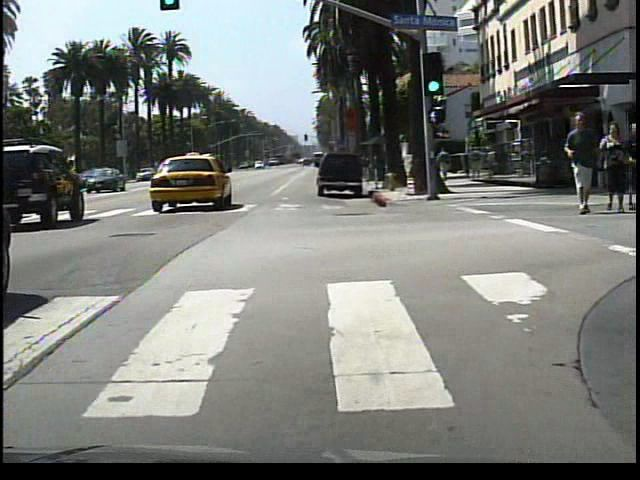person: (557, 104, 599, 223), (596, 124, 626, 221), (433, 145, 454, 186)
